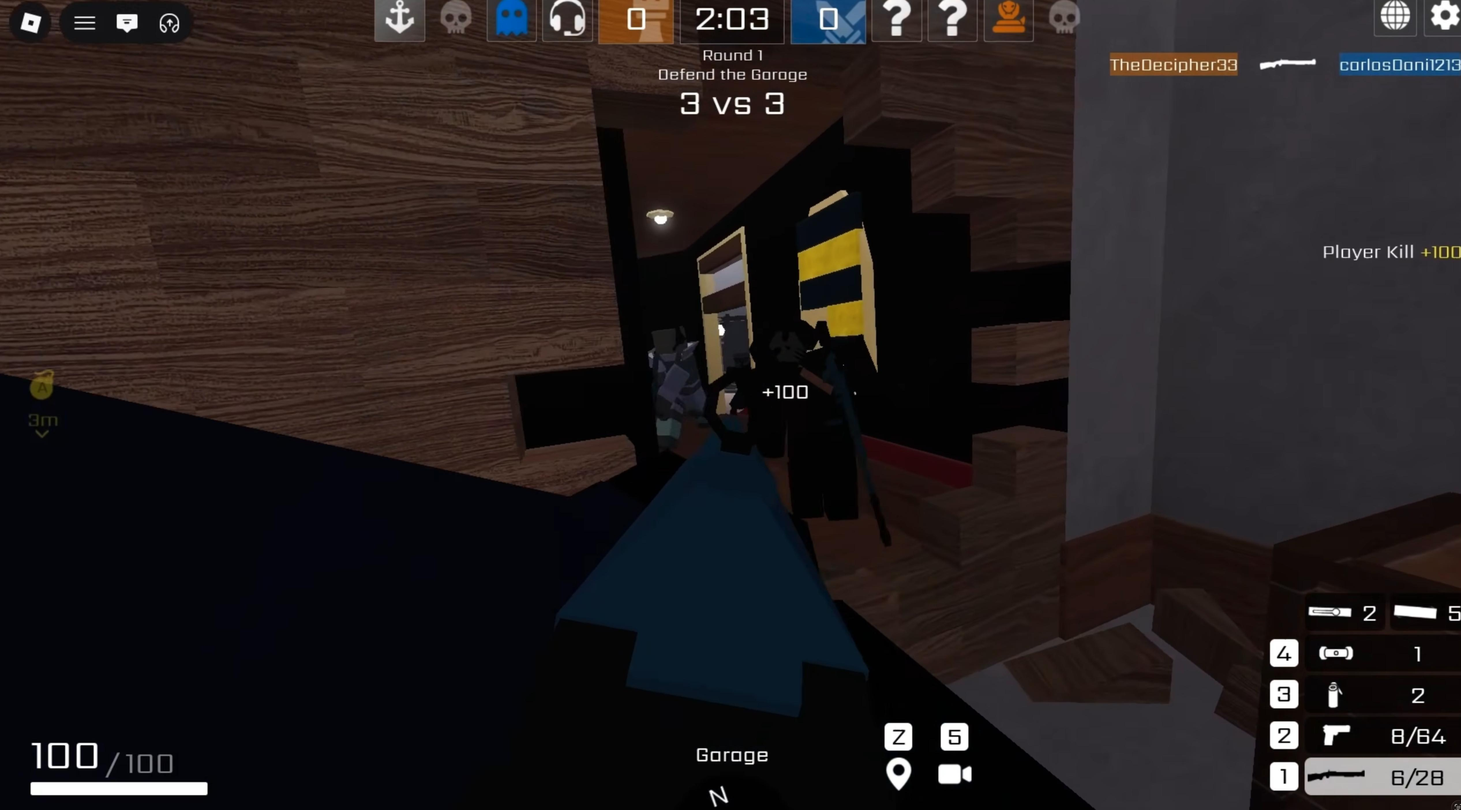enemy: (748, 307, 886, 523), (638, 318, 714, 449), (726, 355, 755, 419)
